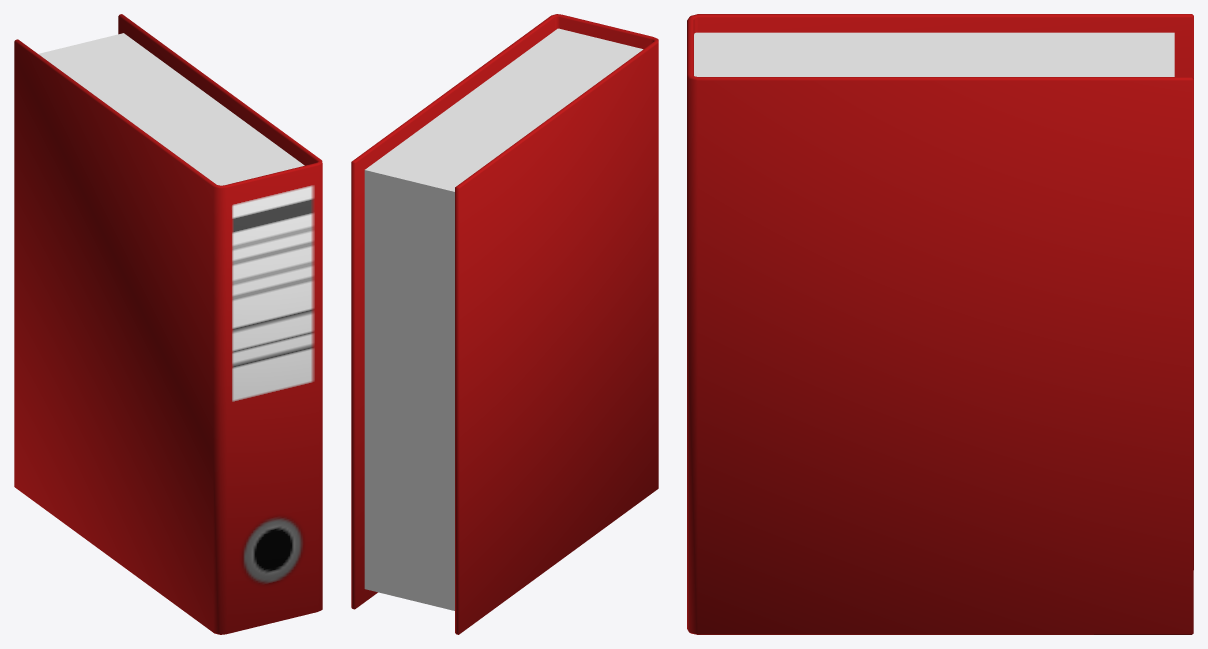
The model's file is office folder1.FBX.
3 renders of one model, left to right at view 1: azimuth 30°, elevation 25°; view 2: azimuth 150°, elevation 25°; view 3: azimuth 270°, elevation 25°, orthographic. The views are drawn at different scales.
Parts seen in each view (by area): view 1: office folder1; view 2: office folder1; view 3: office folder1.
Part boxes in pixels (x1=…): office folder1: x1=14, y1=14, x2=322, y2=634; office folder1: x1=351, y1=14, x2=658, y2=634; office folder1: x1=687, y1=14, x2=1193, y2=634.
Bounding box in the file's own units: 2.88 × 9.36 × 11.33.
Materials: 1 (1 with a texture image).
